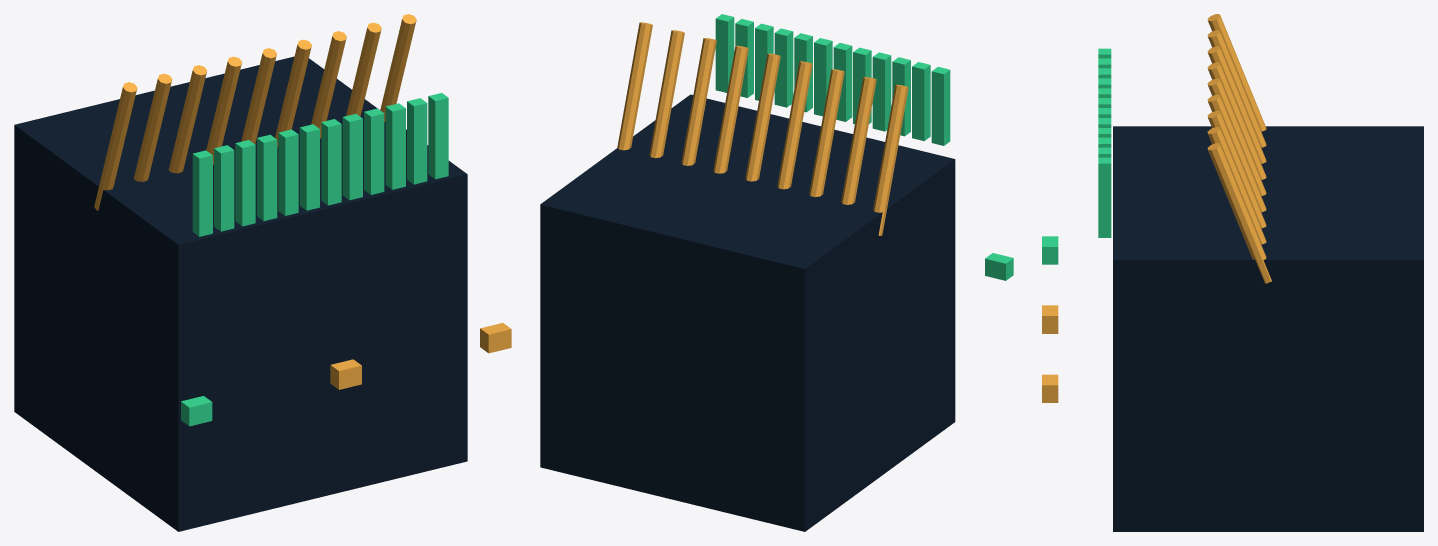
Rendered from 52_L80_IOOpticalOutputInterface.fbx.
3 renders of one model, left to right at view 1: azimuth 30°, elevation 25°; view 2: azimuth 150°, elevation 25°; view 3: azimuth 270°, elevation 25°, orthographic. The views are drawn at different scales.
Parts seen in each view (by area): view 1: IOOpticalOutputInterface, IOOpticalOutputInterface_Part_0013, IOOpticalOutputInterface_Part_0015, IOOpticalOutputInterface_Part_0014, IOOpticalOutputInterface_Part_0019, IOOpticalOutputInterface_Part_0021, IOOpticalOutputInterface_Part_0018, IOOpticalOutputInterface_Part_0016, IOOpticalOutputInterface_Part_0017, IOOpticalOutputInterface_Part_0020; view 2: IOOpticalOutputInterface, IOOpticalOutputInterface_Part_0013, IOOpticalOutputInterface_Part_0014, IOOpticalOutputInterface_Part_0015, IOOpticalOutputInterface_Part_0017, IOOpticalOutputInterface_Part_0019, IOOpticalOutputInterface_Part_0016, IOOpticalOutputInterface_Part_0018, IOOpticalOutputInterface_Part_0020, IOOpticalOutputInterface_Part_0021; view 3: IOOpticalOutputInterface, IOOpticalOutputInterface_Part_0021, IOOpticalOutputInterface_Part_0014, IOOpticalOutputInterface_Part_0016, IOOpticalOutputInterface_Part_0017, IOOpticalOutputInterface_Part_0013, IOOpticalOutputInterface_Part_0015, IOOpticalOutputInterface_Part_0018, IOOpticalOutputInterface_Part_0020, IOOpticalOutputInterface_Part_0019.
Part boxes in pixels (x1=…): IOOpticalOutputInterface: x1=14, y1=56, x2=511, y2=531; IOOpticalOutputInterface_Part_0013: x1=94, y1=82, x2=137, y2=210; IOOpticalOutputInterface_Part_0015: x1=168, y1=65, x2=207, y2=173; IOOpticalOutputInterface_Part_0014: x1=133, y1=73, x2=172, y2=181; IOOpticalOutputInterface_Part_0019: x1=311, y1=31, x2=346, y2=138; IOOpticalOutputInterface_Part_0021: x1=380, y1=14, x2=416, y2=121; IOOpticalOutputInterface_Part_0018: x1=275, y1=39, x2=311, y2=147; IOOpticalOutputInterface_Part_0016: x1=206, y1=56, x2=241, y2=164; IOOpticalOutputInterface_Part_0017: x1=241, y1=48, x2=276, y2=143; IOOpticalOutputInterface_Part_0020: x1=346, y1=22, x2=381, y2=116; IOOpticalOutputInterface: x1=540, y1=14, x2=1013, y2=531; IOOpticalOutputInterface_Part_0013: x1=873, y1=84, x2=908, y2=235; IOOpticalOutputInterface_Part_0014: x1=841, y1=77, x2=876, y2=204; IOOpticalOutputInterface_Part_0015: x1=809, y1=69, x2=844, y2=197; IOOpticalOutputInterface_Part_0017: x1=745, y1=53, x2=780, y2=181; IOOpticalOutputInterface_Part_0019: x1=681, y1=38, x2=716, y2=165; IOOpticalOutputInterface_Part_0016: x1=777, y1=61, x2=812, y2=189; IOOpticalOutputInterface_Part_0018: x1=713, y1=45, x2=748, y2=173; IOOpticalOutputInterface_Part_0020: x1=649, y1=30, x2=684, y2=158; IOOpticalOutputInterface_Part_0021: x1=617, y1=22, x2=652, y2=150; IOOpticalOutputInterface: x1=1042, y1=48, x2=1423, y2=531; IOOpticalOutputInterface_Part_0021: x1=1207, y1=143, x2=1271, y2=283; IOOpticalOutputInterface_Part_0014: x1=1207, y1=30, x2=1266, y2=147; IOOpticalOutputInterface_Part_0016: x1=1207, y1=62, x2=1266, y2=179; IOOpticalOutputInterface_Part_0017: x1=1207, y1=78, x2=1266, y2=195; IOOpticalOutputInterface_Part_0013: x1=1207, y1=14, x2=1266, y2=131; IOOpticalOutputInterface_Part_0015: x1=1207, y1=46, x2=1266, y2=163; IOOpticalOutputInterface_Part_0018: x1=1207, y1=94, x2=1266, y2=212; IOOpticalOutputInterface_Part_0020: x1=1207, y1=127, x2=1266, y2=244; IOOpticalOutputInterface_Part_0019: x1=1207, y1=110, x2=1266, y2=228.
Bounding box in the file's own units: 64.6 × 77.92 × 70.
